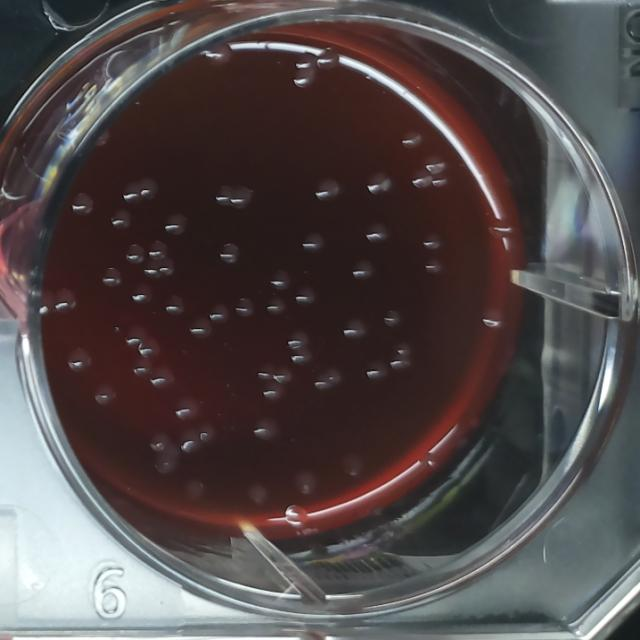Vibrio: (250, 413, 283, 445), (312, 174, 343, 206), (170, 394, 202, 425), (361, 218, 394, 248), (312, 365, 345, 395), (67, 188, 97, 219), (299, 227, 329, 258), (204, 41, 234, 72), (64, 345, 94, 375), (366, 169, 395, 199), (148, 364, 177, 393), (388, 342, 415, 373), (350, 256, 378, 284), (229, 181, 255, 211), (53, 285, 78, 316), (162, 210, 189, 238), (216, 240, 244, 267), (342, 316, 369, 344), (266, 267, 293, 294), (363, 357, 390, 384), (292, 283, 318, 311), (316, 46, 342, 74), (398, 126, 425, 152), (187, 316, 213, 343), (91, 381, 117, 408), (284, 328, 312, 353), (232, 294, 257, 320), (380, 306, 405, 332), (137, 337, 163, 362), (208, 301, 233, 327), (121, 241, 146, 266), (261, 379, 286, 404), (100, 264, 124, 290), (289, 344, 315, 368), (130, 281, 154, 306), (162, 294, 187, 318), (109, 206, 132, 232), (292, 67, 316, 91), (421, 228, 444, 253), (292, 51, 318, 73), (140, 174, 162, 200), (422, 255, 446, 278), (481, 306, 504, 330), (411, 166, 433, 191), (213, 182, 234, 208), (122, 180, 142, 207), (124, 325, 147, 348), (423, 153, 447, 175), (148, 238, 170, 262), (265, 294, 288, 316), (273, 362, 295, 385), (157, 258, 177, 280), (142, 261, 161, 280), (431, 171, 448, 189)
